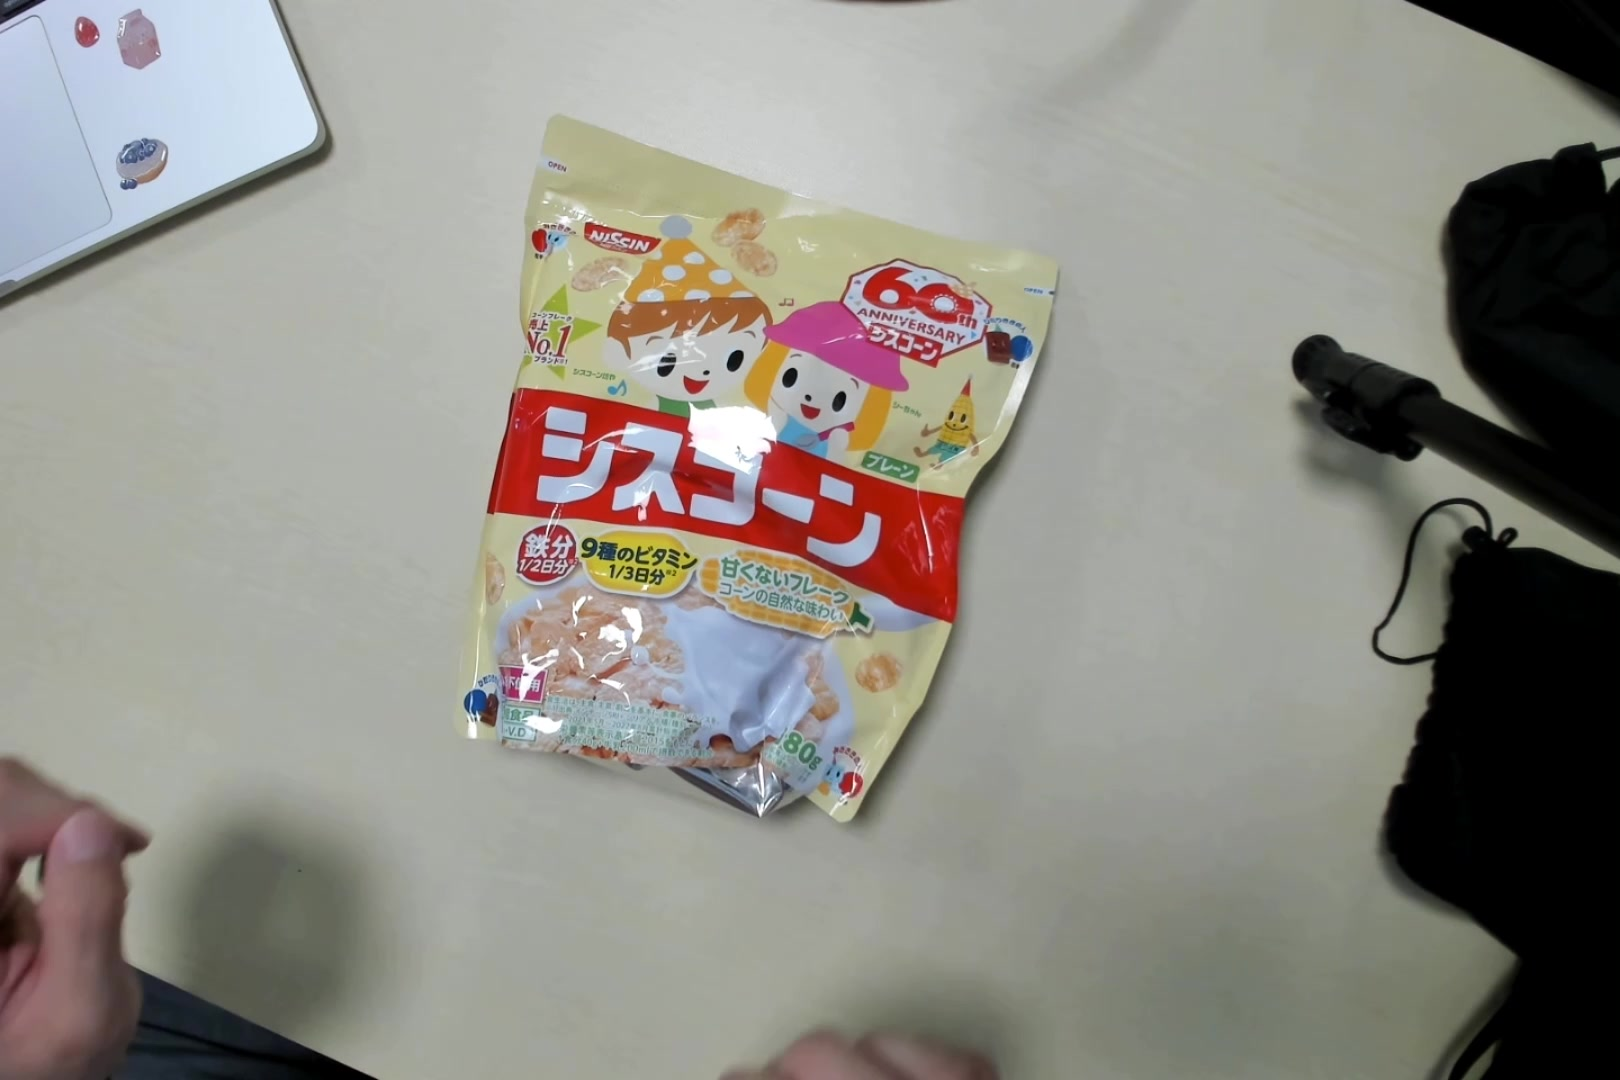BreakfastCereals_100-199g_NonHalal_NonHealthy: (457, 149, 1066, 818)
